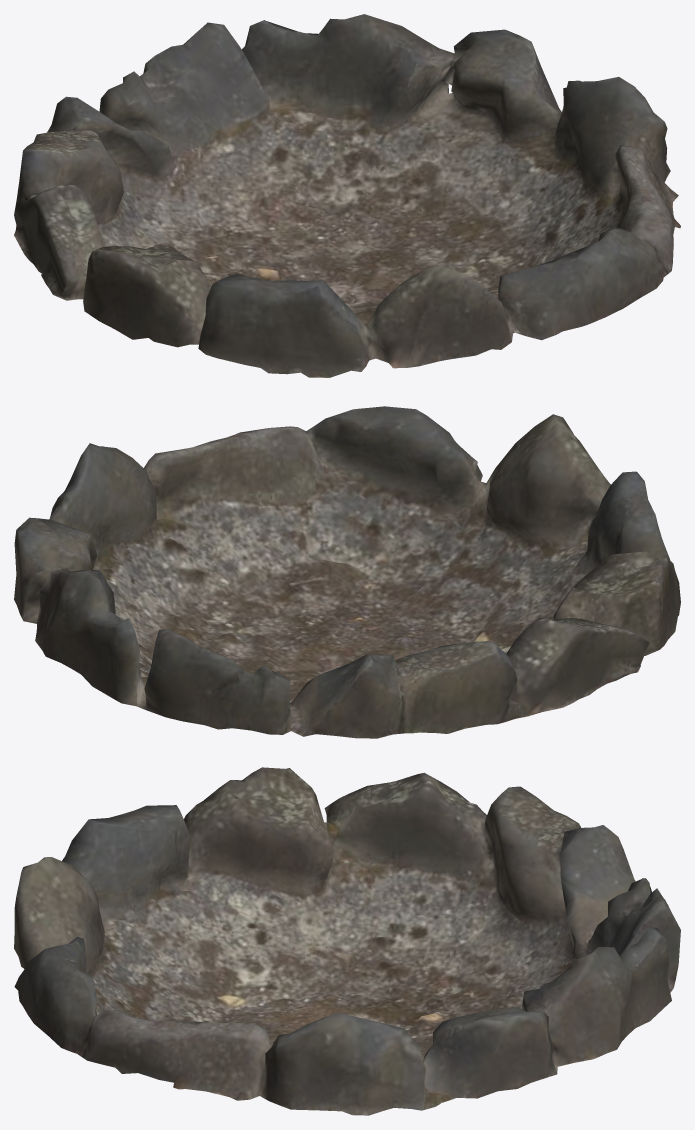
File: stone_fire_pit.glb
The picture shows the model from 3 angles, top to bottom: view 1: azimuth 30°, elevation 25°; view 2: azimuth 150°, elevation 25°; view 3: azimuth 270°, elevation 25°; orthographic projection.
Parts seen in each view (by area): view 1: stone_fire_pit; view 2: stone_fire_pit; view 3: stone_fire_pit.
Part boxes in pixels (x1,y1,x2,y2): stone_fire_pit: (14,14,680,377); stone_fire_pit: (14,406,680,738); stone_fire_pit: (14,767,680,1115).
Bounding box in the file's own units: 1.45 × 0.3883 × 1.43.
Materials: 1 (1 with a texture image).
